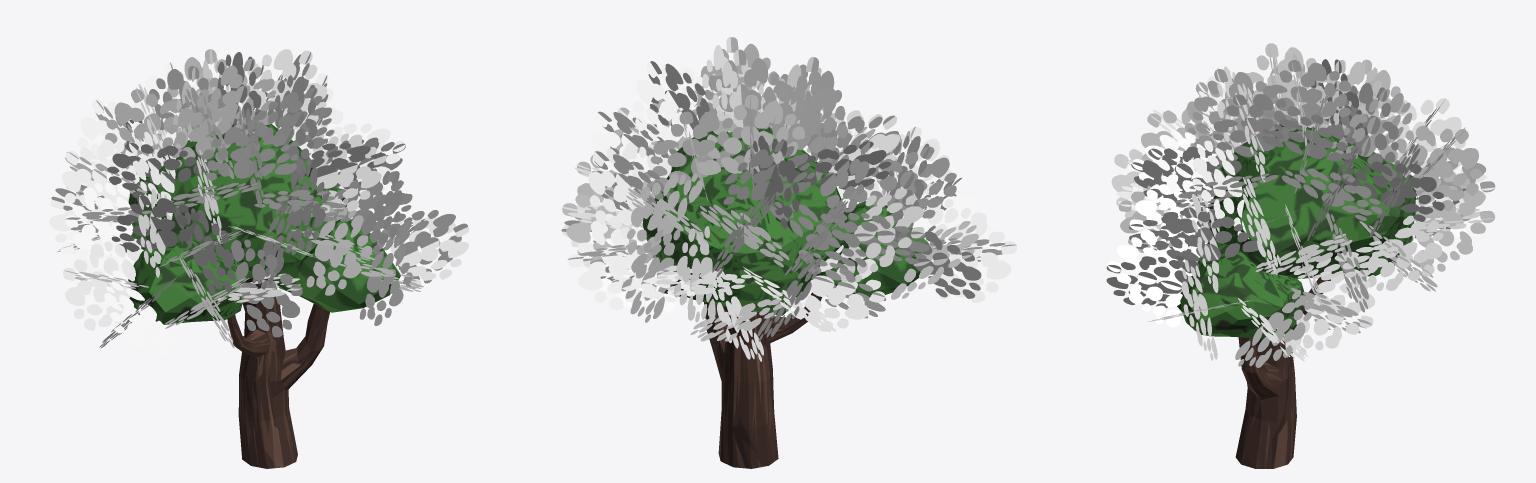
The model's file is GrassLandTrees.fbx.
3 renders of one model, left to right at view 1: azimuth 30°, elevation 25°; view 2: azimuth 150°, elevation 25°; view 3: azimuth 270°, elevation 25°, orthographic. The views are drawn at different scales.
Visible parts, largest first — view 1: Tree_02; view 2: Tree_02; view 3: Tree_02.
Boxes of the visible parts, x1,y1,x2,y2 form: Tree_02: [49, 49, 469, 468]; Tree_02: [561, 37, 1016, 468]; Tree_02: [1106, 43, 1495, 468].
Size of the model in its own units: 17.59 by 16.05 by 15.55.
2 materials, 2 textured.
